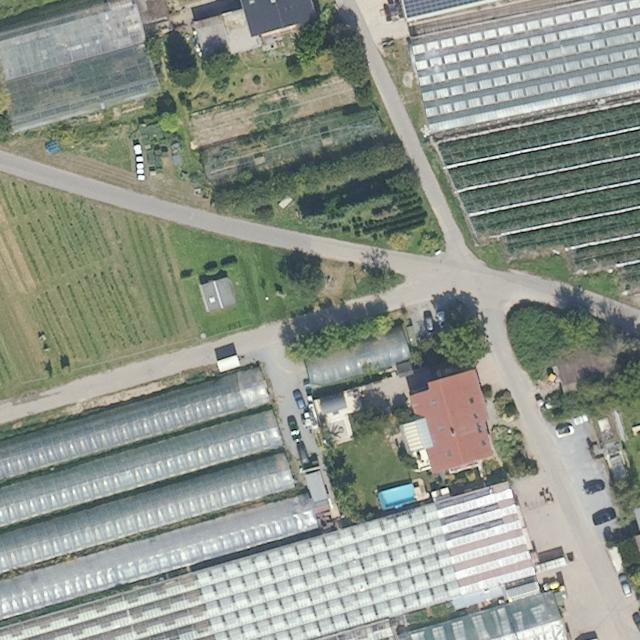PV: (441, 503, 519, 535), (454, 550, 532, 581), (445, 519, 522, 550), (435, 489, 514, 519), (450, 535, 528, 565), (458, 566, 536, 596), (402, 0, 485, 19)
